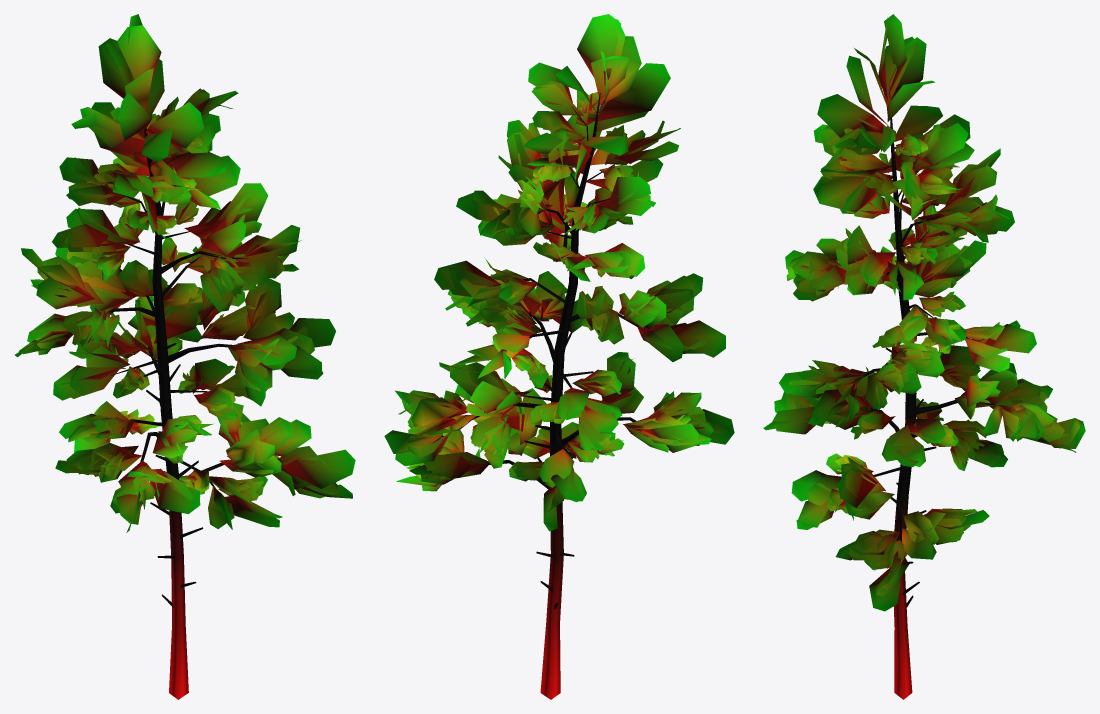
Rendered from Pine_3_LOD_2.fbx.
3 renders of one model, left to right at view 1: azimuth 30°, elevation 25°; view 2: azimuth 150°, elevation 25°; view 3: azimuth 270°, elevation 25°, orthographic. The views are drawn at different scales.
Visible parts, largest first — view 1: Pine_3_LOD_2; view 2: Pine_3_LOD_2; view 3: Pine_3_LOD_2.
Part boxes in pixels (box(x1,y1,x2,y2)): Pine_3_LOD_2: box(15, 14, 355, 699); Pine_3_LOD_2: box(384, 14, 734, 699); Pine_3_LOD_2: box(763, 14, 1085, 699).
Bounding box in the file's own units: 10 × 19.85 × 8.83.
